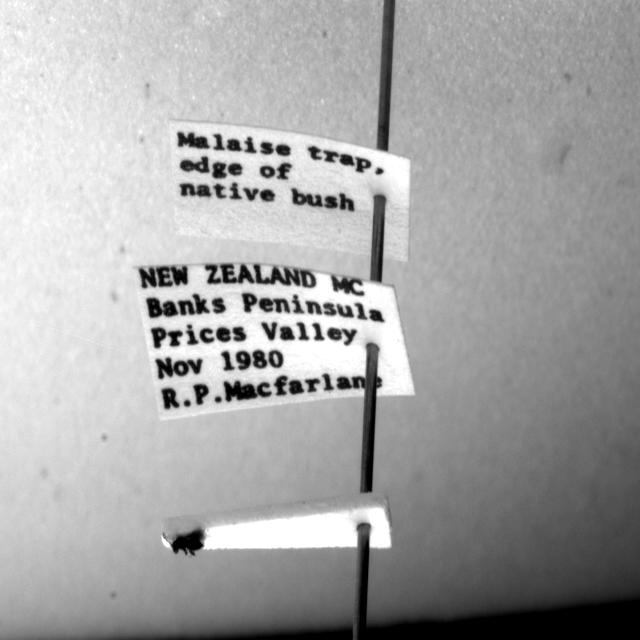typed_label: (135, 262, 414, 420), (170, 120, 410, 261)
